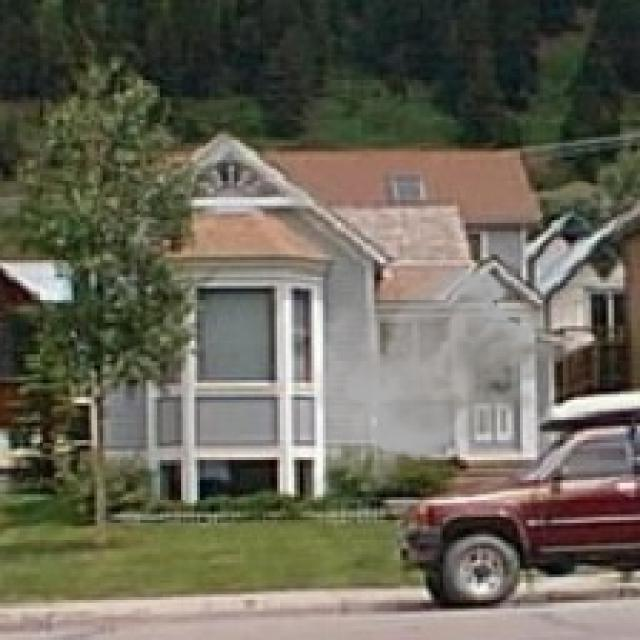Smoke: (306, 260, 586, 494)
